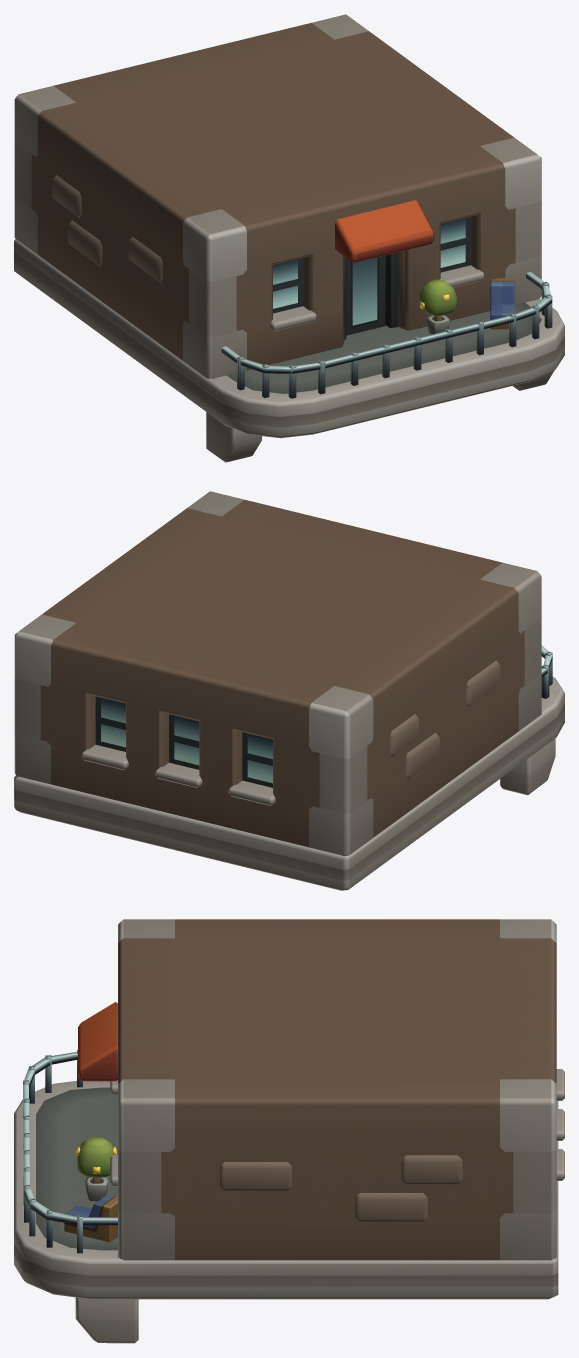
Rendered from appartment_type1_x4_balcony_beige.fbx.
3 views of the same model, one above another, from view 1: azimuth 30°, elevation 25°; view 2: azimuth 150°, elevation 25°; view 3: azimuth 270°, elevation 25° (orthographic). The views are drawn at different scales.
Parts seen in each view (by area): view 1: appartment_type1_x4_balcony_beige, door_appartment_type1_x4_balcony_grey; view 2: appartment_type1_x4_balcony_beige; view 3: appartment_type1_x4_balcony_beige.
Part boxes in pixels (x1,y1,x2,y2): appartment_type1_x4_balcony_beige: (14,14,564,462); door_appartment_type1_x4_balcony_grey: (346,255,385,335); appartment_type1_x4_balcony_beige: (14,491,564,890); appartment_type1_x4_balcony_beige: (14,919,564,1343).
Size of the model in its own units: 819 by 505 by 1017.
